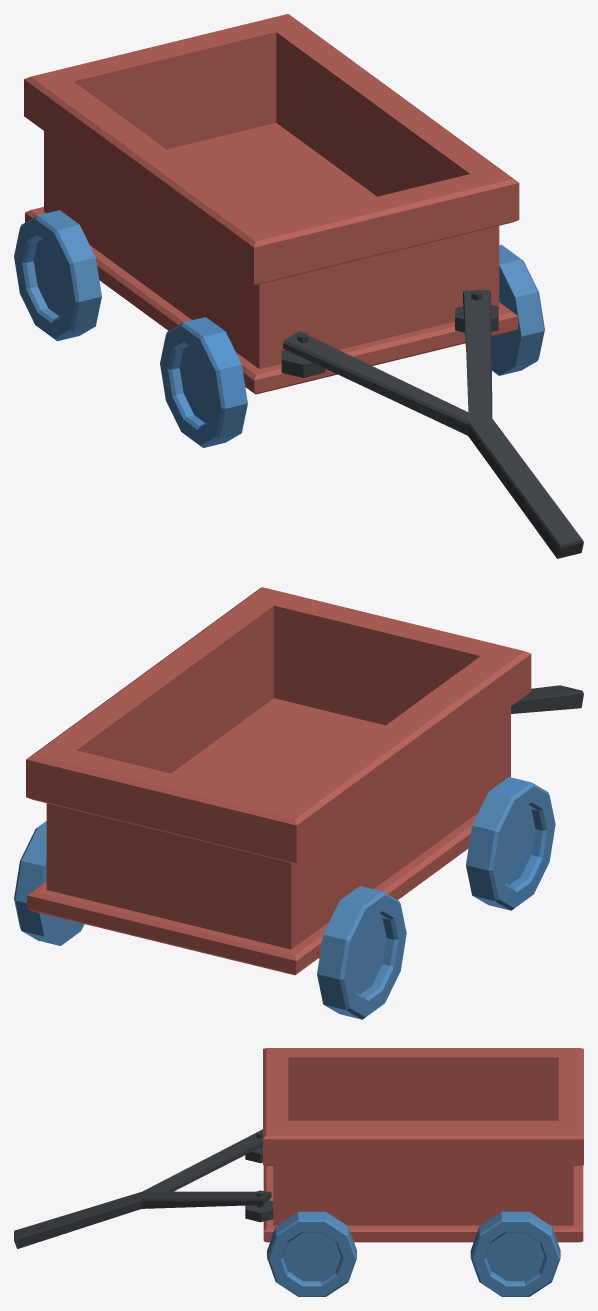
Rendered from cart_a_392.gltf.
The picture shows the model from 3 angles, top to bottom: view 1: azimuth 30°, elevation 25°; view 2: azimuth 150°, elevation 25°; view 3: azimuth 270°, elevation 25°; orthographic projection. The views are drawn at different scales.
Visible parts, largest first — view 1: body, wheel_5, wheel_2, wheel_1, wheel_4, wheel_9; view 2: body, wheel_2, wheel_5, wheel_1, wheel_4, wheel_6; view 3: body, wheel_11, wheel_8, wheel_7, wheel_10.
Boxes of the visible parts, x1,y1,x2,y2 form: body: [20, 14, 583, 558]; wheel_5: [14, 219, 75, 338]; wheel_2: [160, 326, 221, 445]; wheel_1: [179, 345, 213, 422]; wheel_4: [33, 238, 67, 316]; wheel_9: [491, 265, 521, 375]; body: [14, 587, 583, 1019]; wheel_2: [493, 786, 555, 908]; wheel_5: [344, 895, 406, 1017]; wheel_1: [501, 806, 535, 885]; wheel_4: [352, 915, 386, 994]; wheel_6: [39, 862, 84, 945]; body: [14, 1048, 583, 1296]; wheel_11: [269, 1222, 354, 1295]; wheel_8: [473, 1222, 558, 1295]; wheel_7: [486, 1232, 544, 1280]; wheel_10: [283, 1232, 340, 1280].
Bounding box in the file's own units: 0.607 × 0.3883 × 1.33.
Materials: 1 (1 with a texture image).
